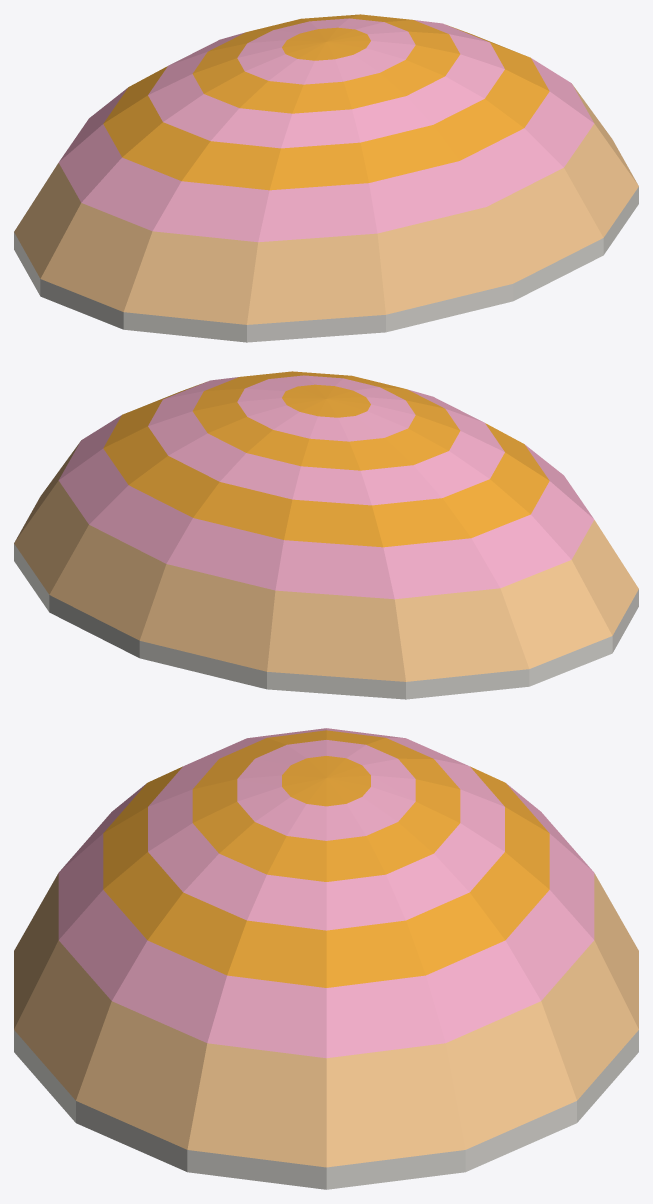
Rendered from deco_clam.obj.
3 views of the same model, one above another, from view 1: azimuth 30°, elevation 25°; view 2: azimuth 150°, elevation 25°; view 3: azimuth 270°, elevation 25° (orthographic). The views are drawn at different scales.
Parts seen in each view (by area): view 1: deco_clam; view 2: deco_clam; view 3: deco_clam.
Boxes of the visible parts, x1,y1,x2,y2 form: deco_clam: (14,14,638,342); deco_clam: (14,371,638,699); deco_clam: (14,728,638,1189).
Bounding box in the file's own units: 0.068 × 0.021 × 0.0507.
1 material, 1 textured.
